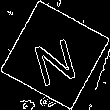N_N: (29, 25, 81, 85)
